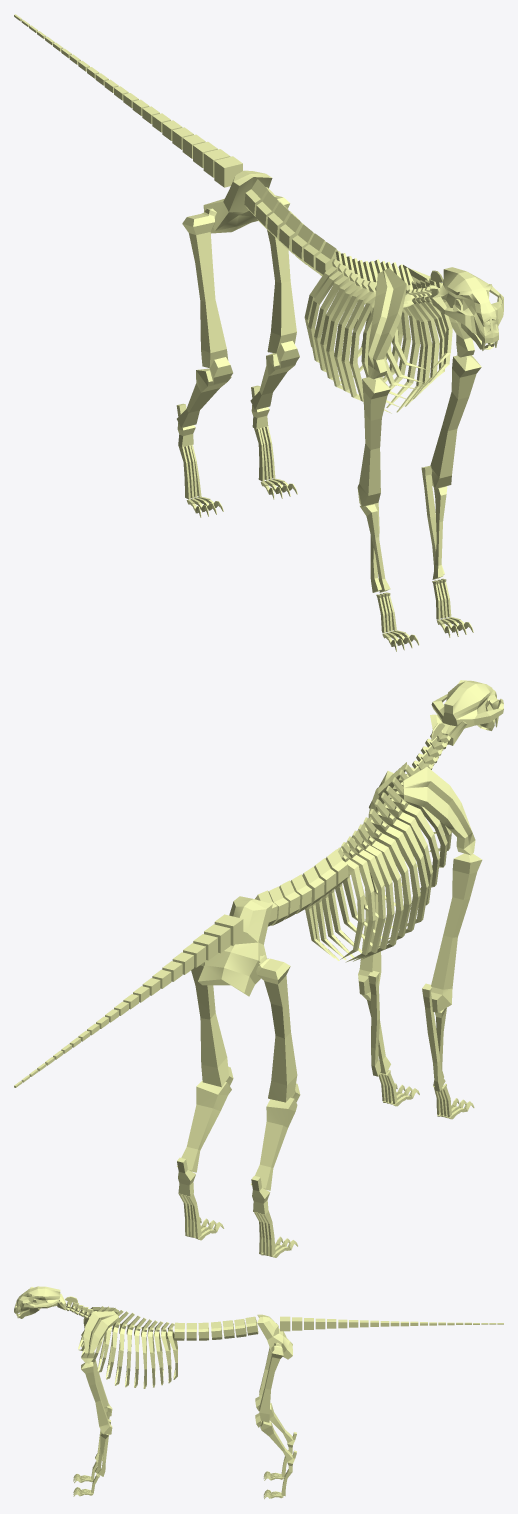
File: CheetahBones.obj
The picture shows the model from 3 angles, top to bottom: view 1: azimuth 30°, elevation 25°; view 2: azimuth 150°, elevation 25°; view 3: azimuth 270°, elevation 25°; orthographic projection. The views are drawn at different scales.
Parts seen in each view (by area): view 1: polySurface13 Geometry1_Spine_grp_Ch_Ribs_06_geo Geometry Cheeta; view 2: polySurface13 Geometry1_Spine_grp_Ch_Ribs_06_geo Geometry Cheeta; view 3: polySurface13 Geometry1_Spine_grp_Ch_Ribs_06_geo Geometry Cheeta.
Boxes of the visible parts, left/top/right/bottom form: polySurface13 Geometry1_Spine_grp_Ch_Ribs_06_geo Geometry Cheeta: left=14, top=14, right=503, bottom=632; polySurface13 Geometry1_Spine_grp_Ch_Ribs_06_geo Geometry Cheeta: left=14, top=680, right=503, bottom=1256; polySurface13 Geometry1_Spine_grp_Ch_Ribs_06_geo Geometry Cheeta: left=14, top=1286, right=503, bottom=1496.
Bounding box in the file's own units: 3.18 × 11.01 × 24.47.
